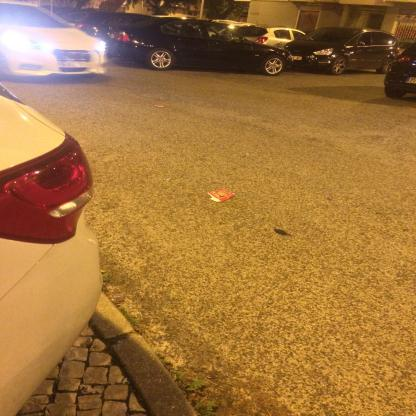trash: (206, 188, 238, 203)
